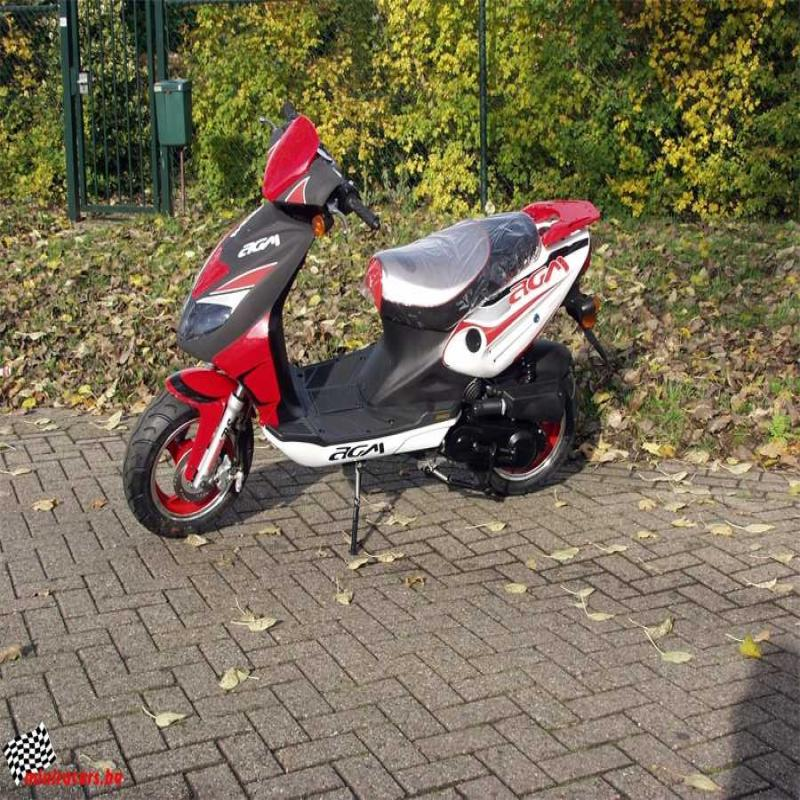bike: (107, 102, 602, 530)
